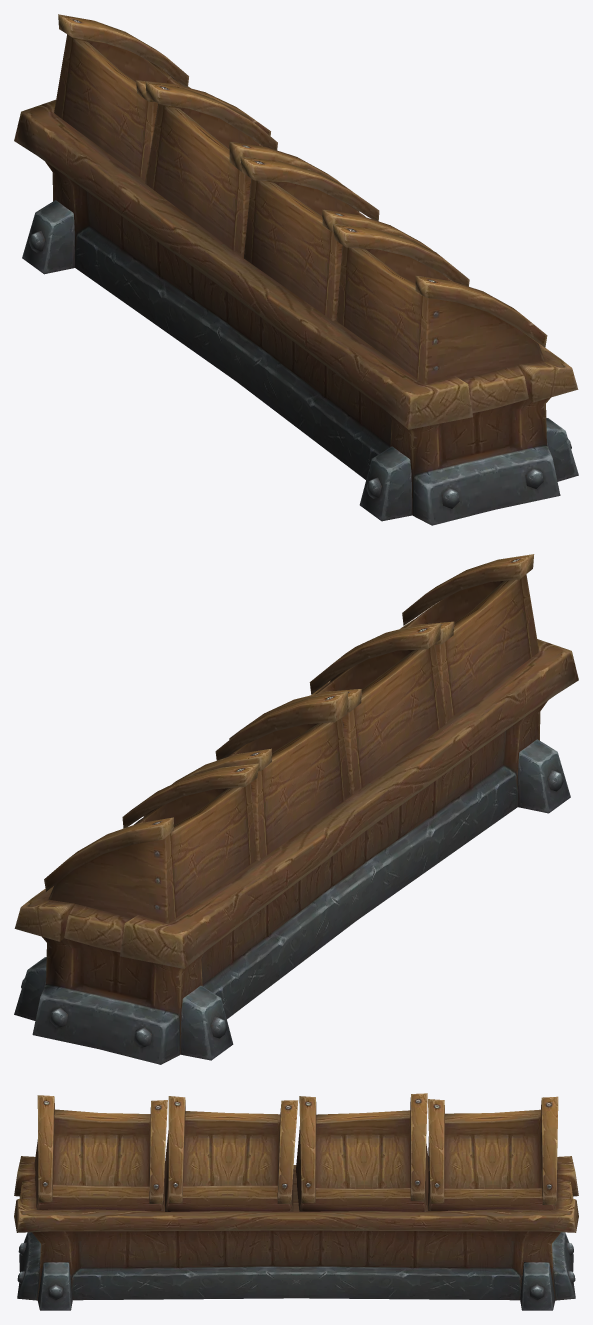
3 renders of one model, top to bottom at view 1: azimuth 30°, elevation 25°; view 2: azimuth 150°, elevation 25°; view 3: azimuth 270°, elevation 25°, orthographic. The views are drawn at different scales.
Bounding box in the file's own units: 2.08 × 2.32 × 7.28.
Materials: 1 (1 with a texture image).
